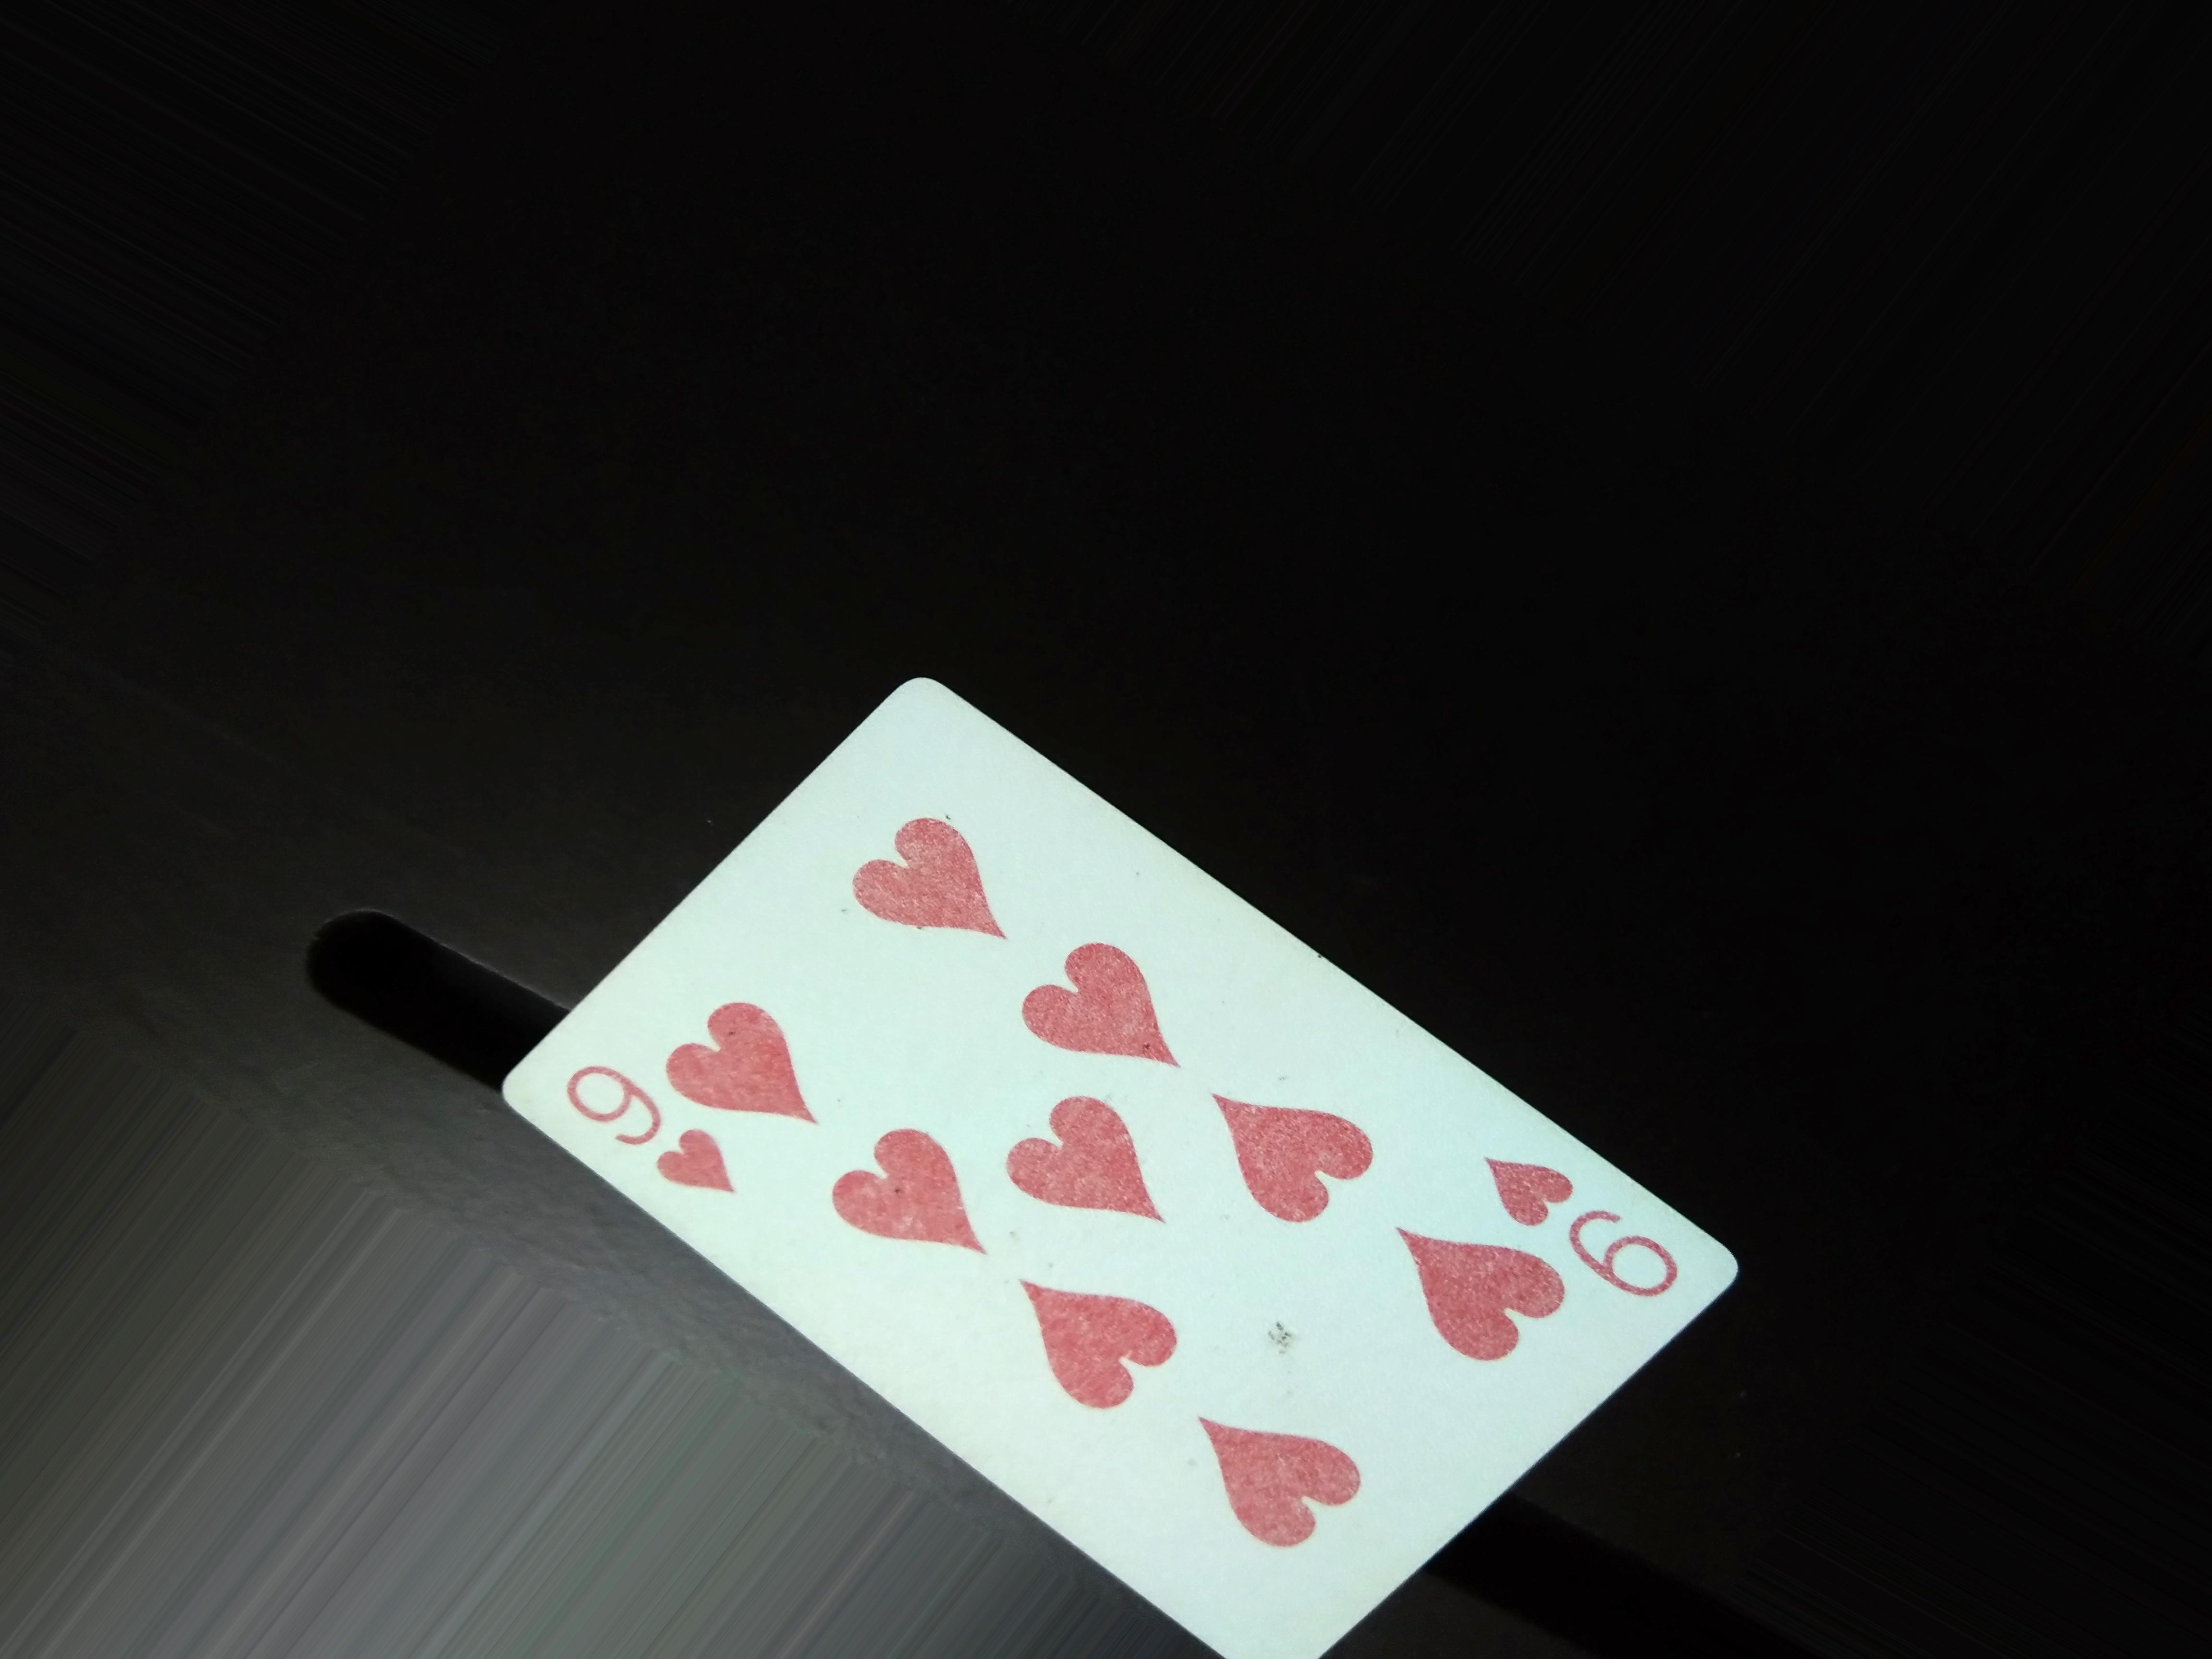9H: (1475, 1134, 1693, 1321)
